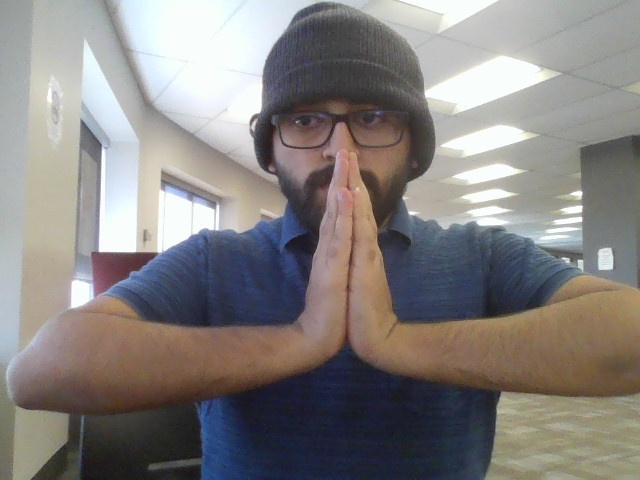start: (290, 144, 423, 384)
